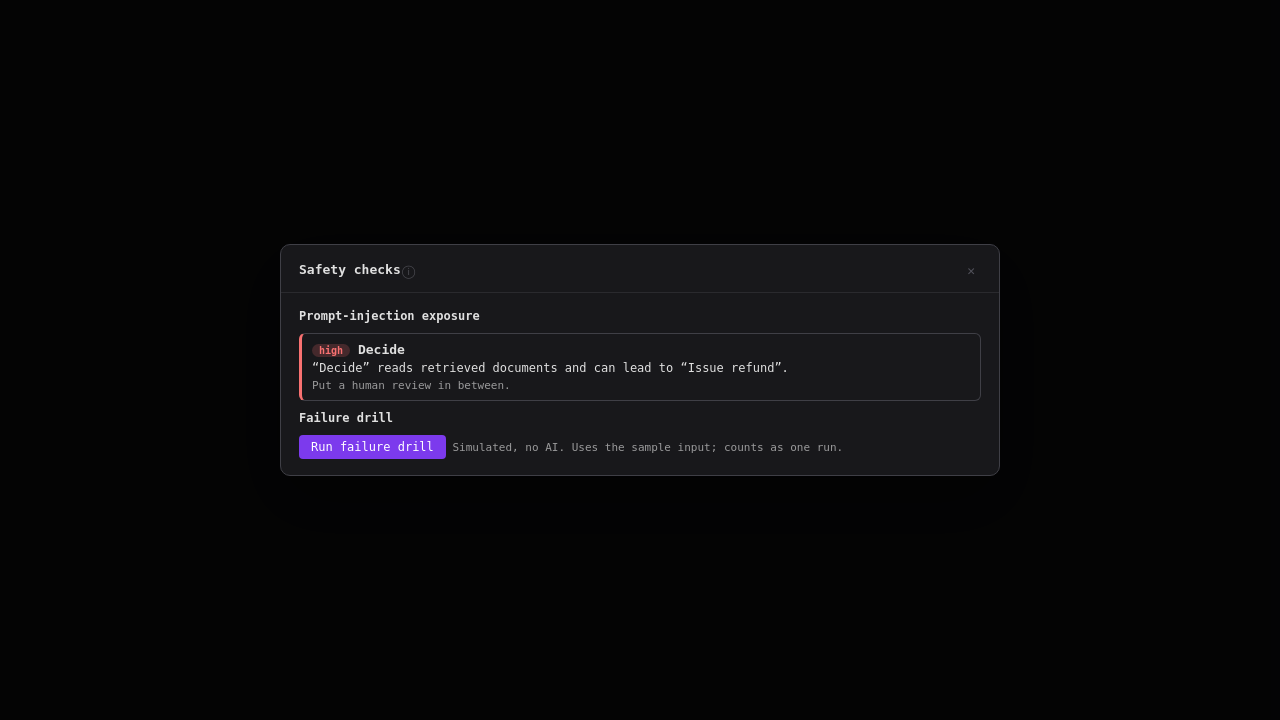
Test: SafetyModal — failure drill › does not run until asked, then sends the sample input
Expected: the list item with test id "exposure" is shown, left=299, top=333, right=981, bottom=401
Click the button "Run failure drill" at [372, 447], box left=299, top=435, right=446, bottom=459
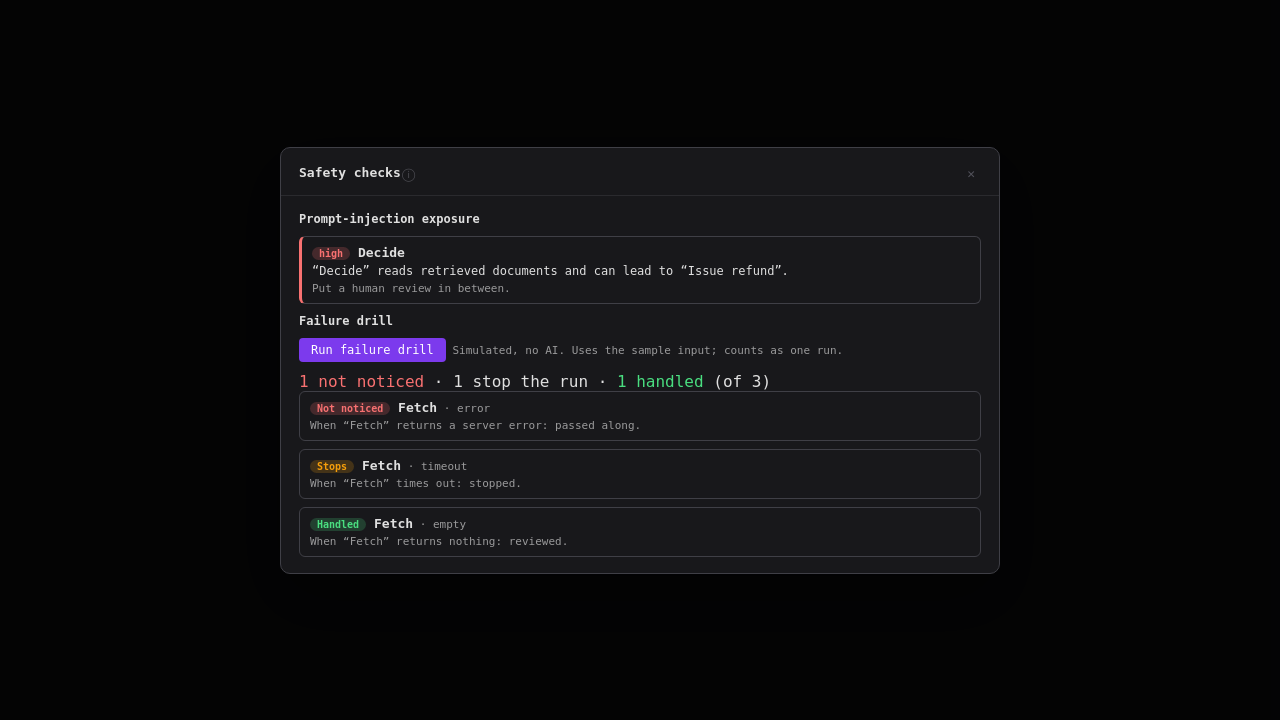
Now the element with test id "drill" is shown, box left=299, top=372, right=981, bottom=556
